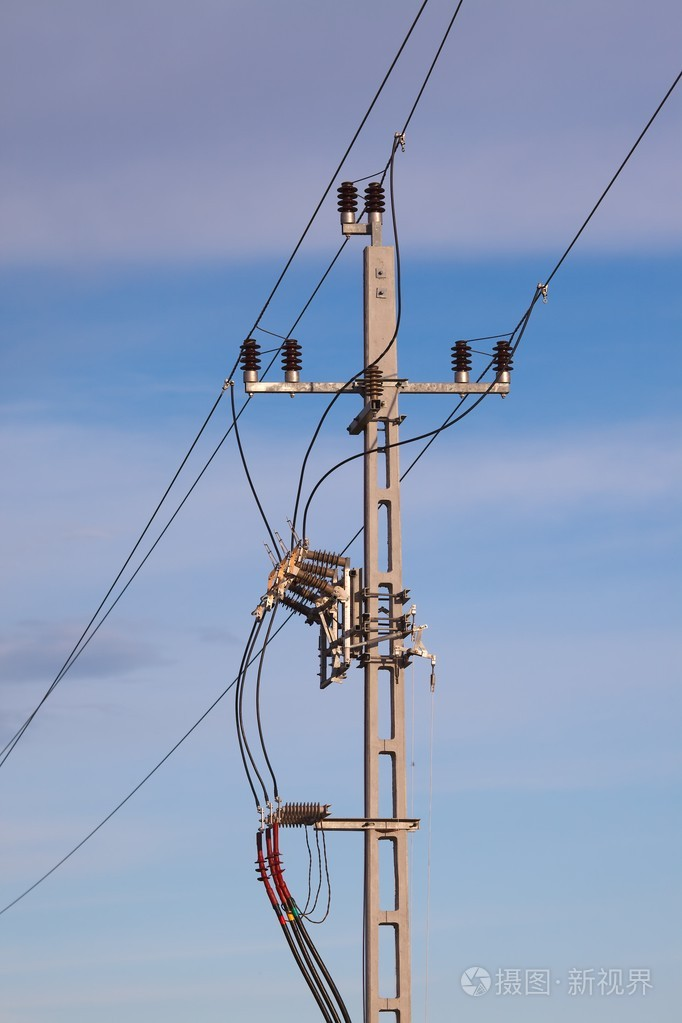insulator: (278, 337, 306, 375), (331, 179, 362, 212), (491, 339, 516, 375), (238, 342, 262, 376), (449, 341, 473, 374), (361, 369, 385, 401), (365, 180, 385, 216)
